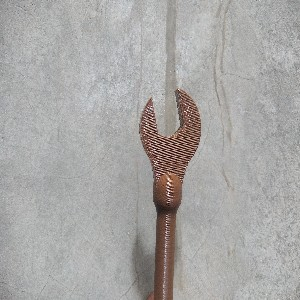spanner: (138, 88, 200, 300)
